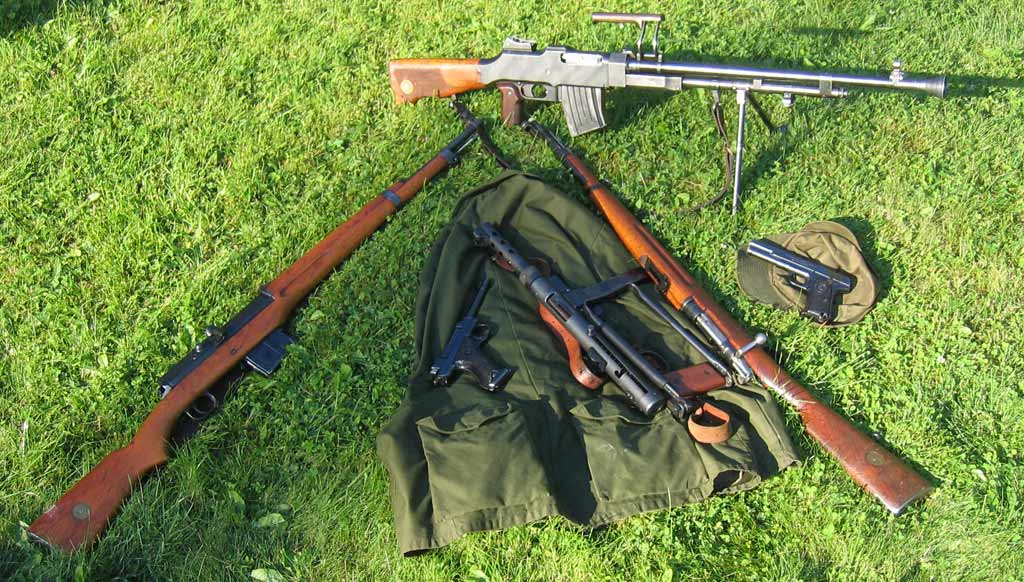rifle: (16, 132, 484, 556), (545, 133, 935, 520), (372, 11, 969, 131)
